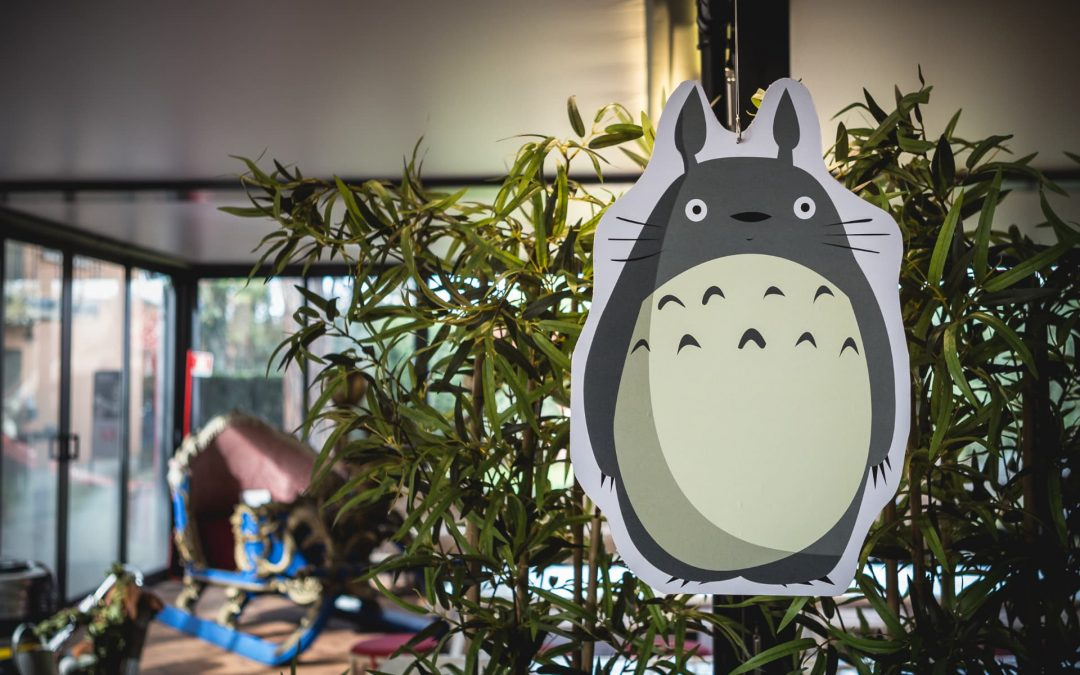Totoro: (582, 86, 903, 601)
